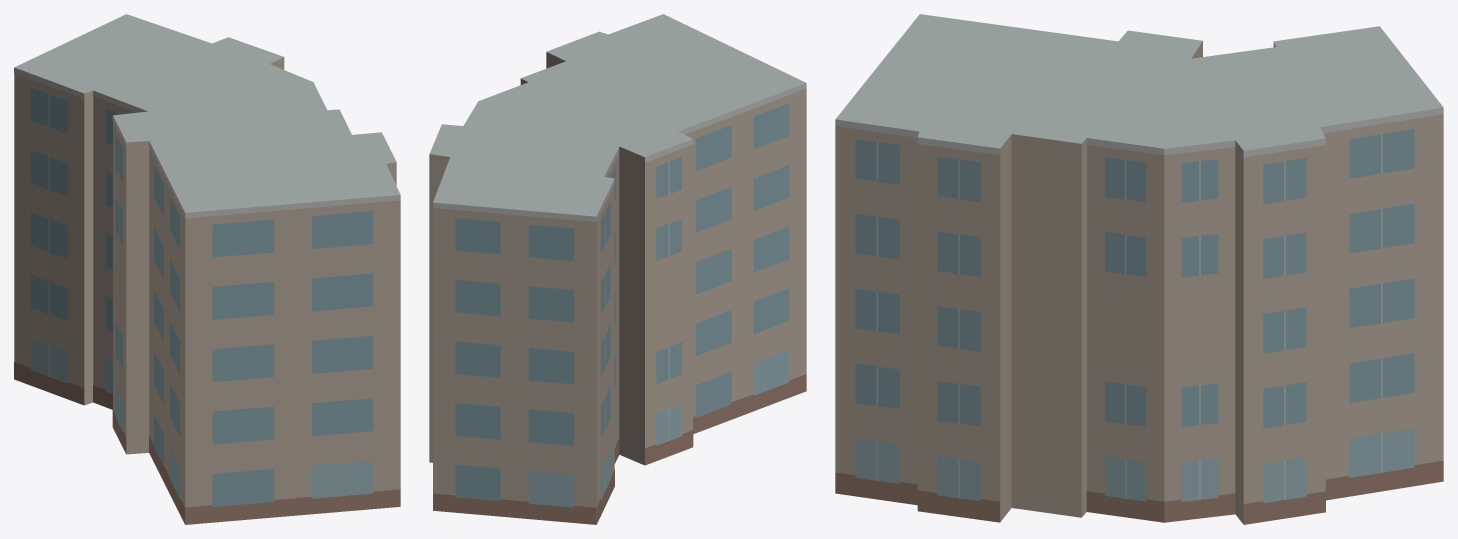
File: survey-upis-32769664.glb
The picture shows the model from 3 angles, left to right: view 1: azimuth 30°, elevation 25°; view 2: azimuth 150°, elevation 25°; view 3: azimuth 270°, elevation 25°; orthographic projection. The views are drawn at different scales.
Visible parts, largest first — view 1: survey-upis-32769664.tmp; view 2: survey-upis-32769664.tmp; view 3: survey-upis-32769664.tmp.
Part boxes in pixels (box(x1,y1,x2,y2)): survey-upis-32769664.tmp: box(14, 14, 400, 524); survey-upis-32769664.tmp: box(429, 14, 806, 524); survey-upis-32769664.tmp: box(835, 14, 1443, 524).
Bounding box in the file's own units: 10.77 × 13.7 × 20.21.
